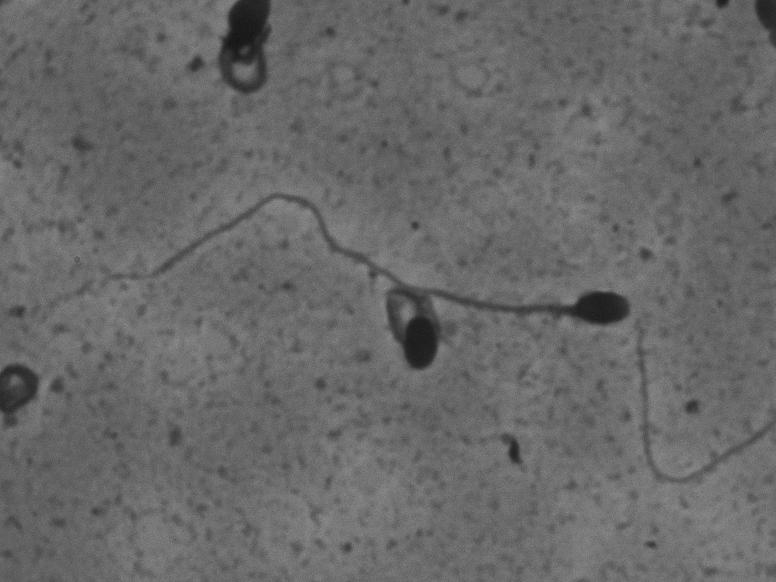Abnormal: (373, 280, 450, 383)
Normal: (90, 164, 636, 336)
